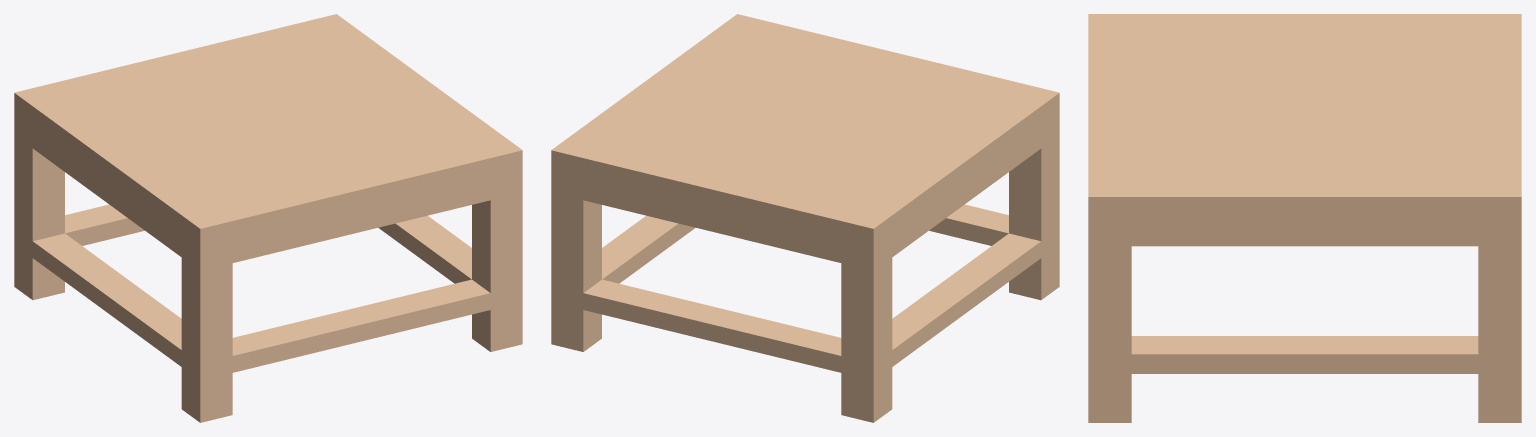
The model's file is tableCoffeeSquare.glb.
3 renders of one model, left to right at view 1: azimuth 30°, elevation 25°; view 2: azimuth 150°, elevation 25°; view 3: azimuth 270°, elevation 25°, orthographic. The views are drawn at different scales.
Visible parts, largest first — view 1: tableCoffeeSquare(Clone); view 2: tableCoffeeSquare(Clone); view 3: tableCoffeeSquare(Clone).
Part boxes in pixels (<box>): tableCoffeeSquare(Clone): <box>14,14,522,422</box>; tableCoffeeSquare(Clone): <box>551,14,1059,422</box>; tableCoffeeSquare(Clone): <box>1088,14,1521,422</box>.
Bounding box in the file's own units: 0.4 × 0.23 × 0.4.
